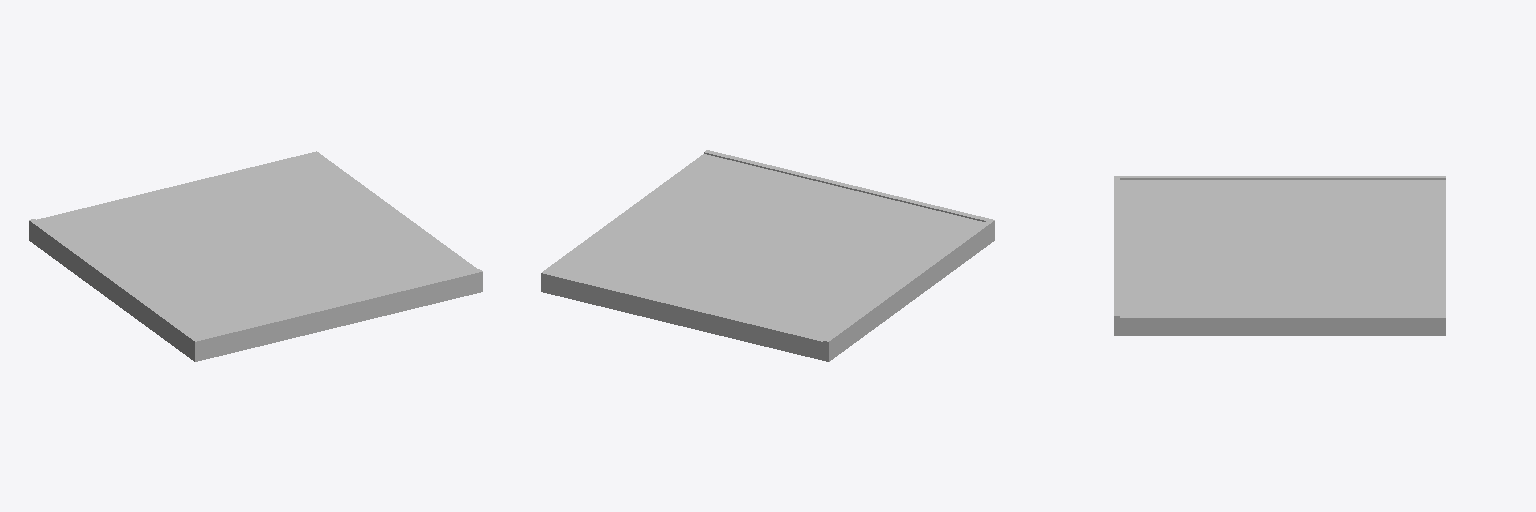
File: turn 8x8x0.5.obj
3 renders of one model, left to right at view 1: azimuth 30°, elevation 25°; view 2: azimuth 150°, elevation 25°; view 3: azimuth 270°, elevation 25°, orthographic.
Parts seen in each view (by area): view 1: Cube; view 2: Cube; view 3: Cube.
Part boxes in pixels (left/top/right/bottom): Cube: left=29, top=151, right=482, bottom=361; Cube: left=541, top=150, right=994, bottom=361; Cube: left=1114, top=176, right=1445, bottom=335.
Size of the model in its own units: 16 by 1.08 by 16.